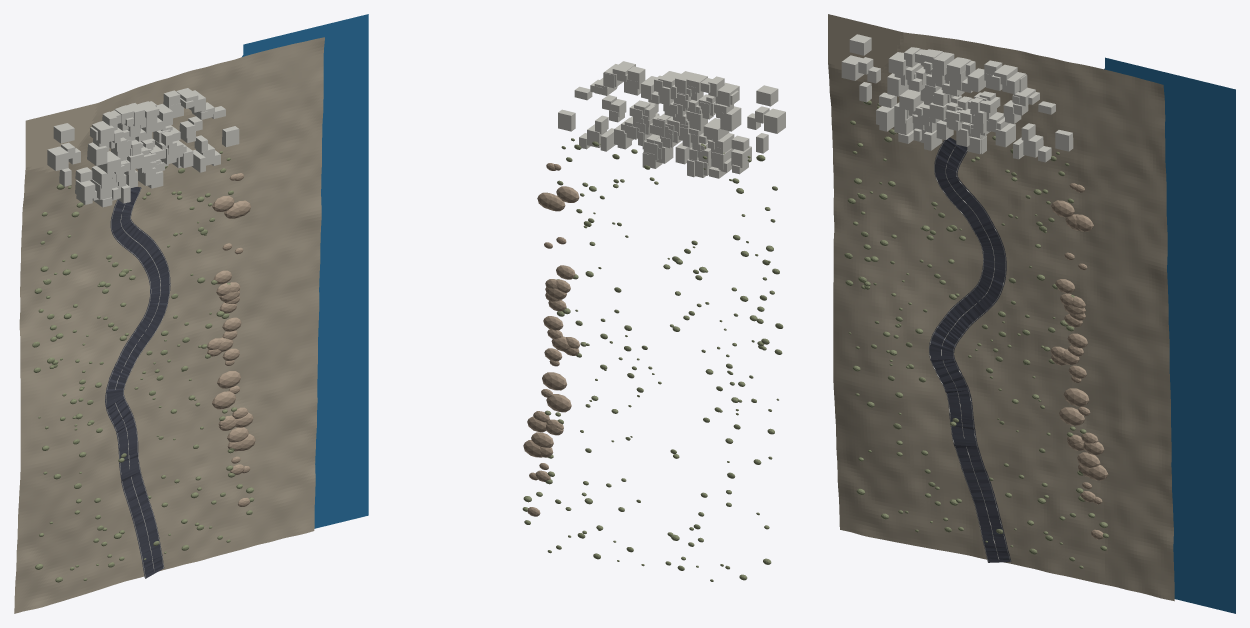
File: sahil_virajli_yol.glb
The picture shows the model from 3 angles, left to right: view 1: azimuth 30°, elevation 25°; view 2: azimuth 150°, elevation 25°; view 3: azimuth 330°, elevation 25°; orthographic projection. The views are drawn at different scales.
Parts seen in each view (by area): view 1: Rocky_coastal_terrain, Deep_blue_sea, Winding_asphalt_road; view 2: no part large enough to name; view 3: Rocky_coastal_terrain, Deep_blue_sea, Winding_asphalt_road.
Boxes of the visible parts, <box> form: Rocky_coastal_terrain: <box>14,37,324,613</box>; Deep_blue_sea: <box>242,14,368,528</box>; Winding_asphalt_road: <box>105,187,170,578</box>; Rocky_coastal_terrain: <box>828,14,1174,601</box>; Deep_blue_sea: <box>1104,57,1235,613</box>; Winding_asphalt_road: <box>929,137,1011,562</box>.
Bounding box in the file's own units: 130 × 171 × 19.71.
